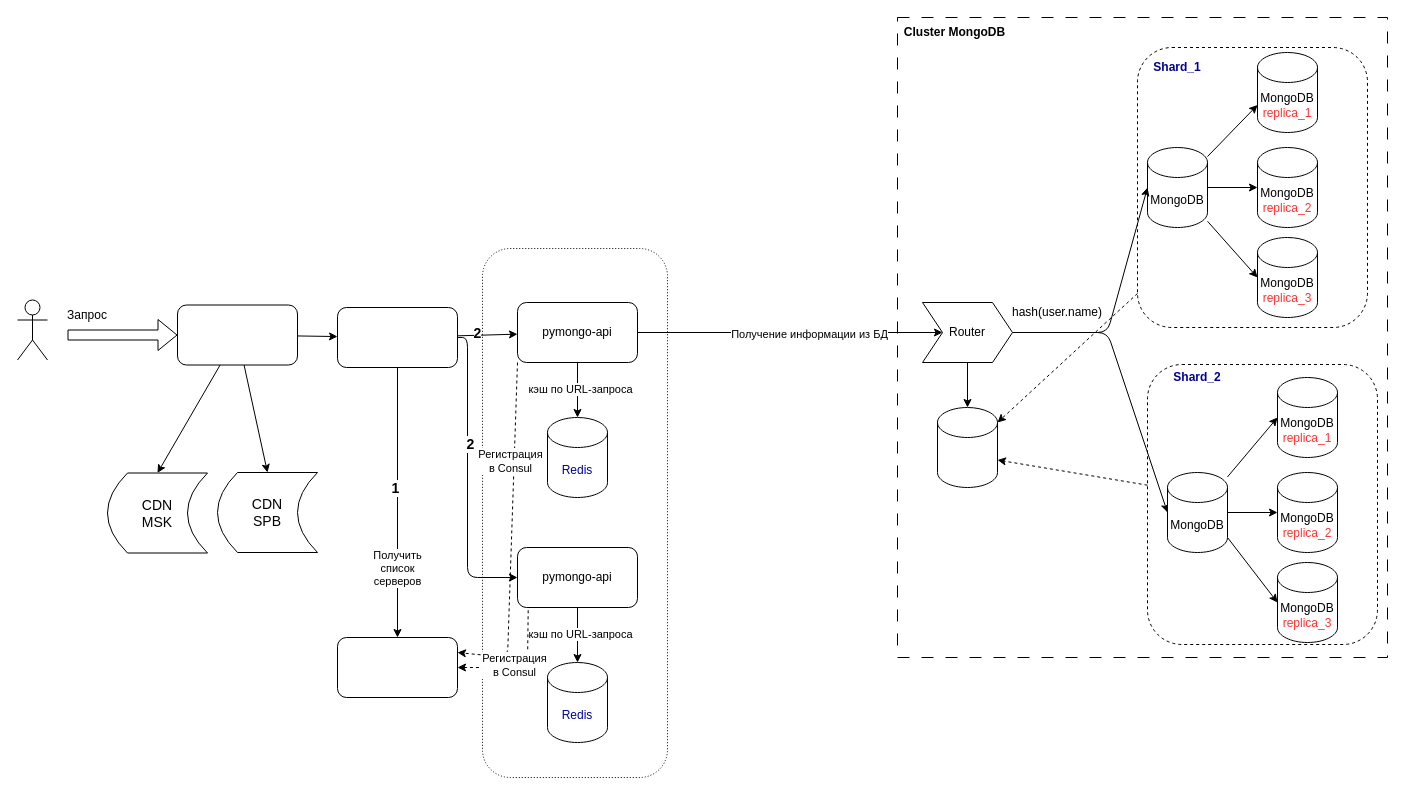
Image size: 1405x795. Some labels were removed from this diagram. The shapes that lost their labels are listed below. From the top down, each one's centre as x and y in pixels, then its label:
the point at 32,329: User
the point at 237,334: NGINX
the point at 397,337: APISIX Gateway
the point at 967,447: ConfigSrv
the point at 397,667: Consul
